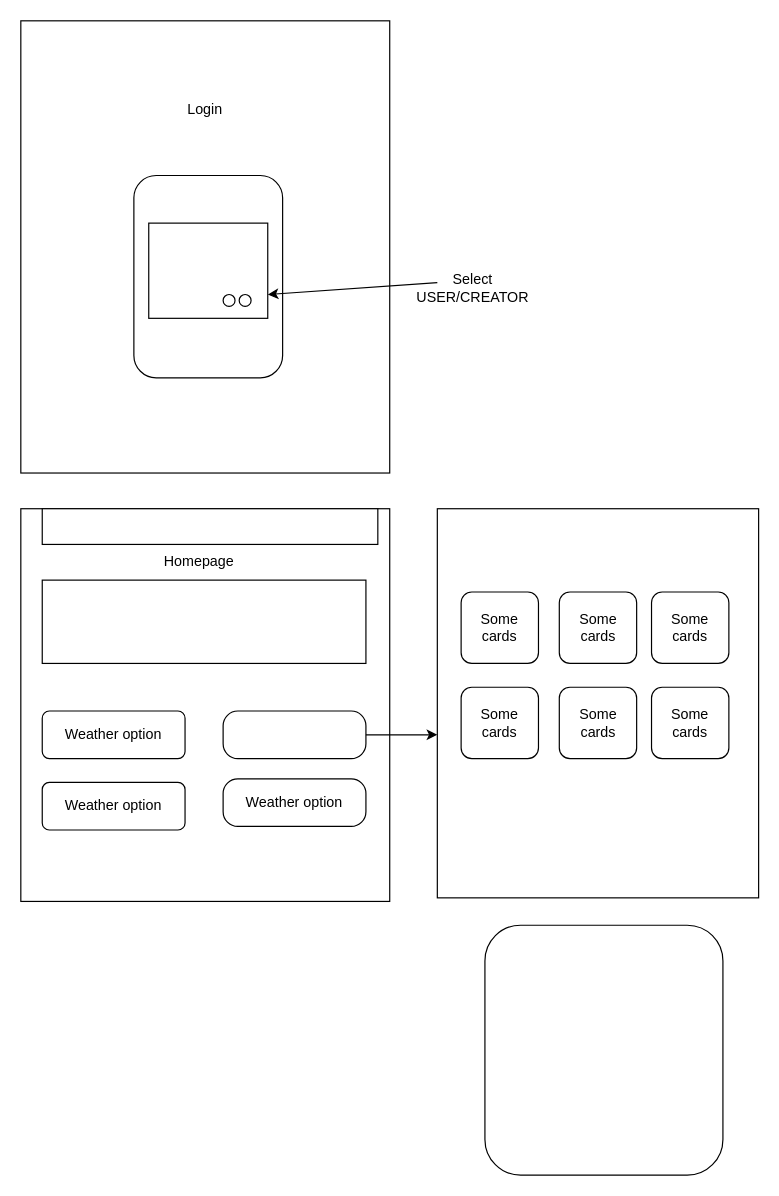
This 779x1196 diagram has some shape labels left out. The centre of each missing label's shape, as x and y in pixels:
Modal Listing image + details Book reservation: (x=603, y=1049)
Navbar: (x=209, y=526)
Random image of people having fun: (x=203, y=621)
User Login: (x=208, y=270)
Weather option Filtered by BE: (x=294, y=734)
